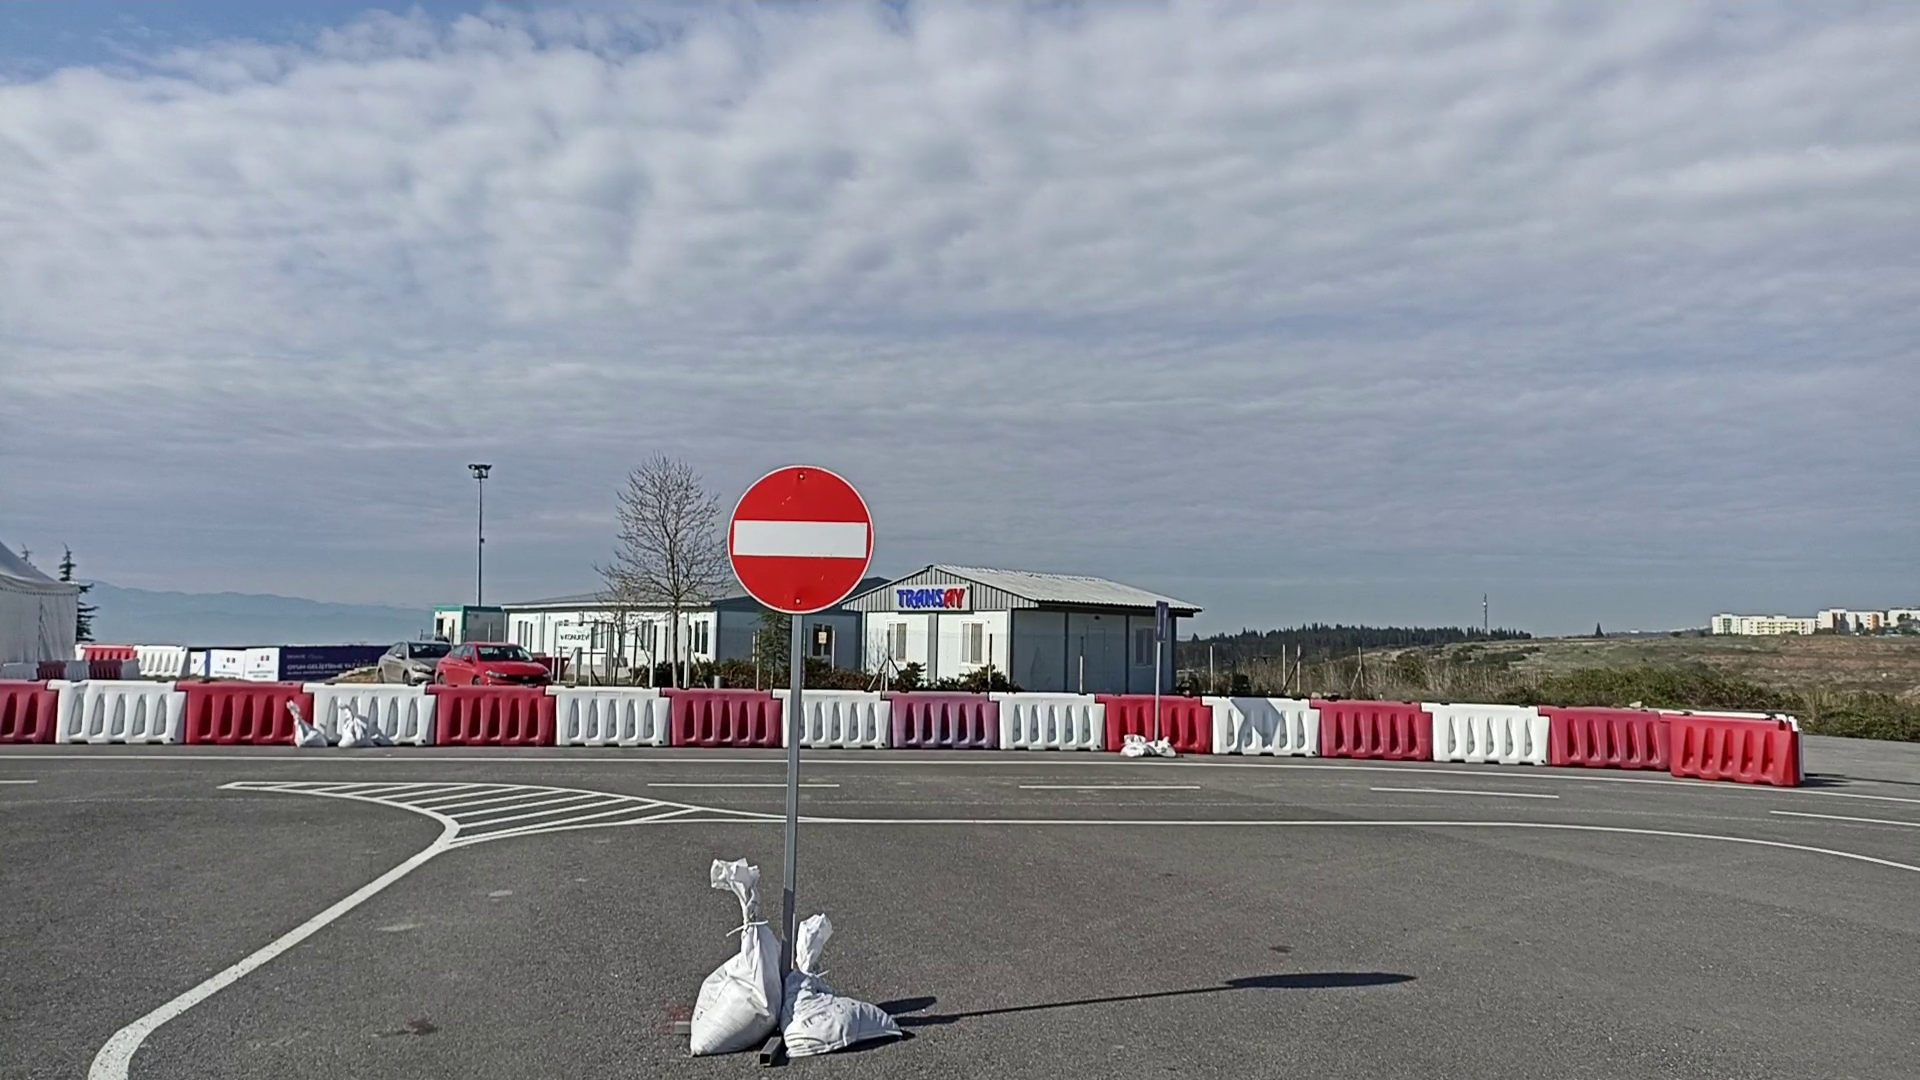noentryway: (724, 460, 877, 616)
